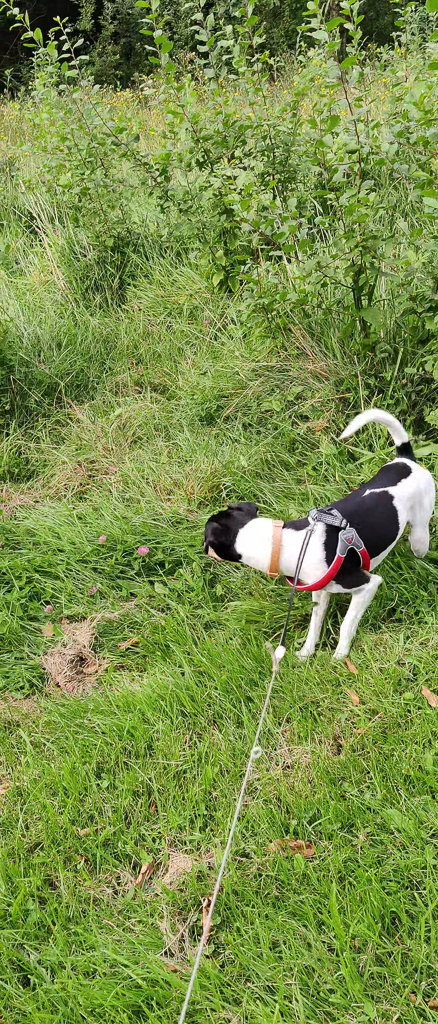Dog: (194, 403, 438, 677)
